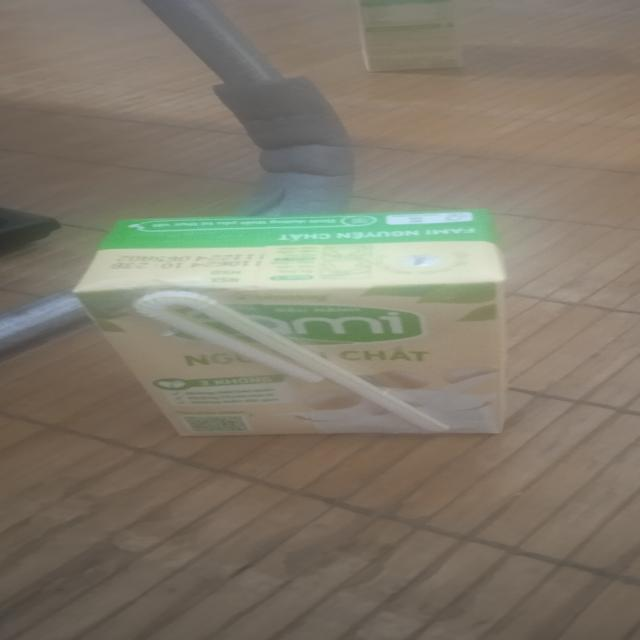Fami: (85, 207, 505, 440)
